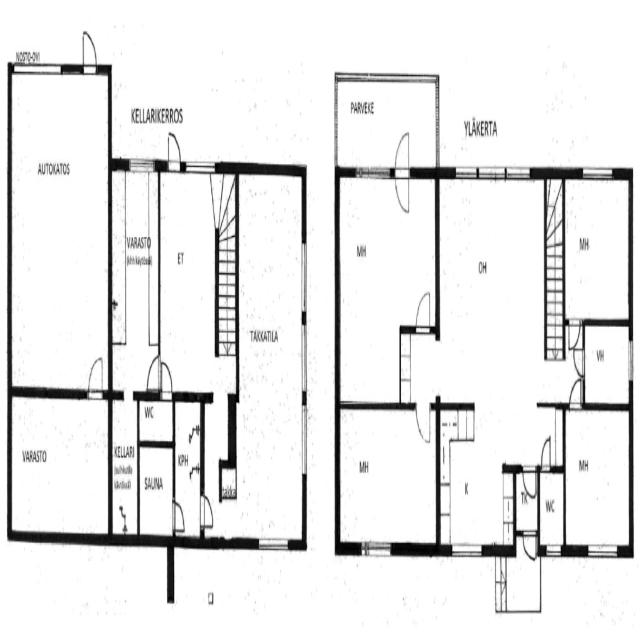door: (393, 124, 412, 222), (80, 24, 98, 76), (87, 349, 105, 400), (414, 284, 432, 334), (165, 125, 182, 171), (415, 399, 431, 447), (146, 350, 162, 394), (522, 459, 538, 501), (159, 353, 173, 398), (199, 489, 215, 528), (567, 313, 582, 354), (568, 372, 583, 411), (539, 432, 553, 473), (571, 342, 586, 380), (522, 525, 536, 564), (171, 497, 186, 533), (121, 385, 136, 421)
window: (15, 54, 64, 82), (359, 534, 394, 562), (182, 152, 218, 179), (353, 161, 393, 185), (450, 538, 484, 563), (299, 235, 309, 318), (256, 533, 291, 556), (299, 400, 309, 480), (581, 160, 615, 183), (300, 319, 310, 395), (586, 540, 619, 562), (504, 159, 533, 184), (476, 161, 507, 184), (128, 154, 156, 175), (453, 159, 478, 182), (627, 332, 635, 387), (544, 540, 564, 561)
zone: (10, 61, 109, 396), (437, 172, 553, 404), (235, 167, 305, 545), (338, 173, 437, 406), (8, 394, 110, 538), (338, 406, 438, 548), (159, 166, 218, 392), (111, 160, 160, 398), (438, 403, 516, 550), (563, 171, 631, 322), (564, 407, 631, 549), (582, 320, 631, 407), (174, 395, 202, 540), (111, 395, 138, 536), (138, 441, 174, 538), (399, 328, 438, 403), (538, 466, 564, 551), (138, 396, 175, 446), (516, 460, 538, 528)
